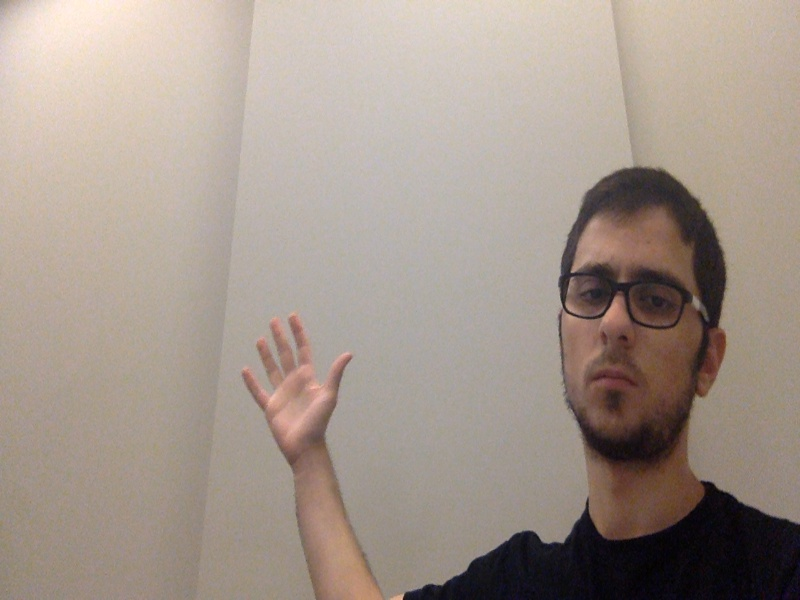5-hand: (239, 311, 356, 471)
